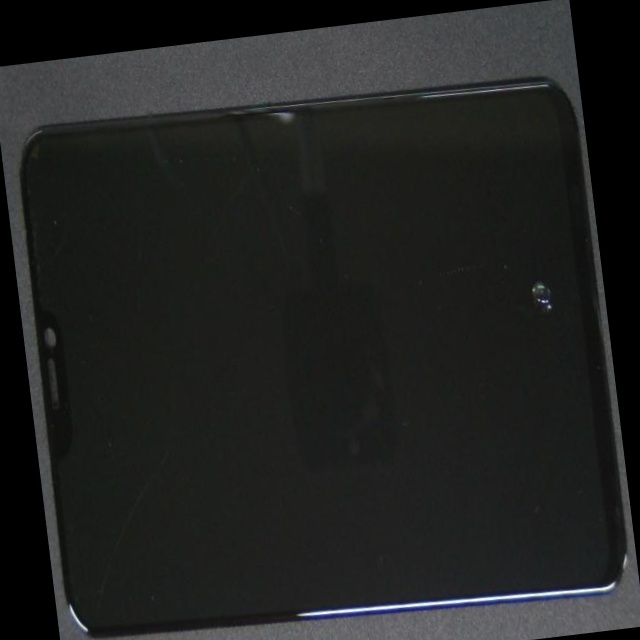oil: (248, 125, 624, 497)
